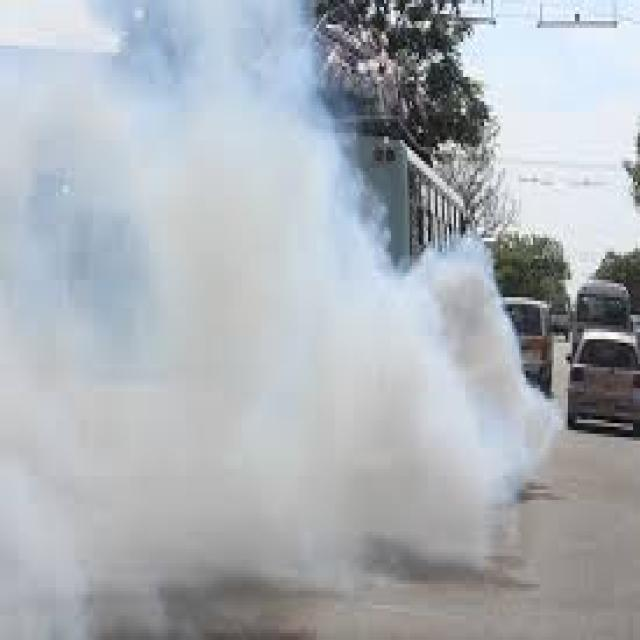smoke: (18, 122, 480, 608)
